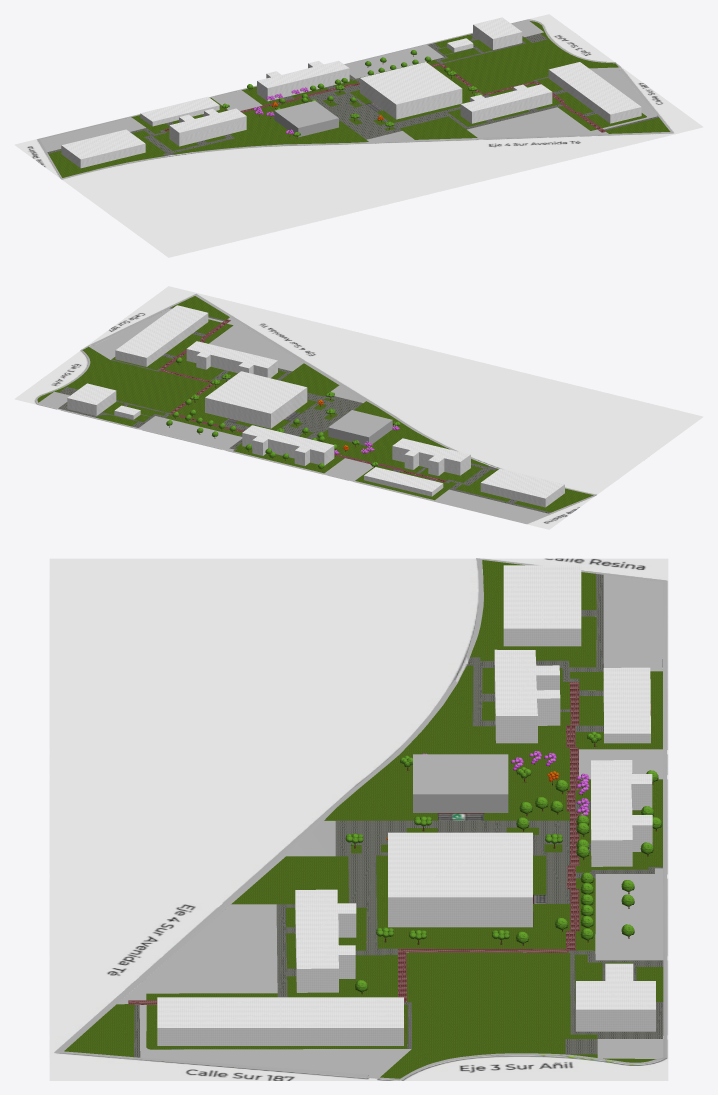
The model's file is Upiicsa plane.glb.
3 renders of one model, top to bottom at view 1: azimuth 30°, elevation 25°; view 2: azimuth 150°, elevation 25°; view 3: azimuth 270°, elevation 25°, orthographic. The views are drawn at different scales.
Visible parts, largest first — view 1: Quad, Pasto_canchas, Edif_culturales, Edif_pesados, Sendero_Entrada0, Barda_exterior, Estacionamiento, Edif_Ingenieria, Edif_Sociales, Edif_Graduados, Edif_Basicas, Edif_Gobierno (+17 smaller); view 2: Quad, Pasto_canchas, Edif_culturales, Edif_pesados, Barda_exterior, Edif_Sociales, Edif_Graduados, Edif_Ingenieria, Edif_Basicas, Sendero_Entrada0, Estacionamiento, Edif_Gobierno (+21 smaller); view 3: Quad, Pasto_canchas, Edif_culturales, Edif_pesados, Estacionamiento, Barda_exterior, Sendero_Entrada0, Edif_Graduados, Pasto_basicas3, Edif_Sociales, Estacionamiento (2), Edif_Ingenieria (+22 smaller).
Boxes of the visible parts, x1=… form: Quad: x1=14, y1=14, x2=703, y2=257; Pasto_canchas: x1=443, y1=32, x2=618, y2=93; Edif_culturales: x1=360, y1=62, x2=462, y2=119; Edif_pesados: x1=548, y1=62, x2=641, y2=123; Sendero_Entrada0: x1=308, y1=85, x2=562, y2=139; Barda_exterior: x1=37, y1=19, x2=673, y2=179; Estacionamiento: x1=467, y1=107, x2=608, y2=137; Edif_Ingenieria: x1=460, y1=84, x2=552, y2=123; Edif_Sociales: x1=257, y1=60, x2=349, y2=101; Edif_Graduados: x1=61, y1=129, x2=145, y2=168; Edif_Basicas: x1=169, y1=108, x2=246, y2=146; Edif_Gobierno: x1=274, y1=101, x2=338, y2=137; Quad: x1=14, y1=286, x2=703, y2=529; Pasto_canchas: x1=54, y1=347, x2=210, y2=412; Edif_culturales: x1=205, y1=371, x2=307, y2=428; Edif_pesados: x1=115, y1=305, x2=208, y2=366; Barda_exterior: x1=35, y1=293, x2=596, y2=523; Edif_Sociales: x1=242, y1=425, x2=334, y2=465; Edif_Graduados: x1=480, y1=468, x2=564, y2=507; Edif_Ingenieria: x1=186, y1=341, x2=277, y2=378; Edif_Basicas: x1=392, y1=438, x2=470, y2=475; Sendero_Entrada0: x1=210, y1=368, x2=362, y2=439; Estacionamiento: x1=209, y1=317, x2=303, y2=371; Edif_Gobierno: x1=328, y1=410, x2=392, y2=446; Quad: x1=49, y1=558, x2=668, y2=1080; Pasto_canchas: x1=380, y1=952, x2=597, y2=1078; Edif_culturales: x1=388, y1=832, x2=532, y2=927; Edif_pesados: x1=157, y1=997, x2=403, y2=1045; Estacionamiento: x1=117, y1=904, x2=277, y2=1004; Barda_exterior: x1=54, y1=558, x2=667, y2=1079; Sendero_Entrada0: x1=276, y1=820, x2=570, y2=997; Edif_Graduados: x1=503, y1=565, x2=581, y2=646; Pasto_basicas3: x1=390, y1=665, x2=570, y2=762; Edif_Sociales: x1=591, y1=760, x2=652, y2=866; Estacionamiento (2): x1=595, y1=868, x2=663, y2=960; Edif_Ingenieria: x1=295, y1=889, x2=356, y2=992.
Size of the model in its own units: 636 by 17.33 by 318.
Materials: 8 (6 with a texture image).
